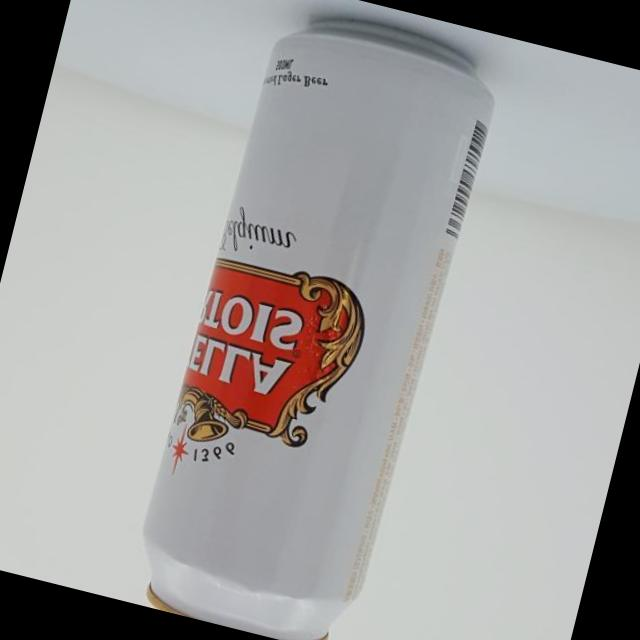can: (115, 0, 511, 640)
